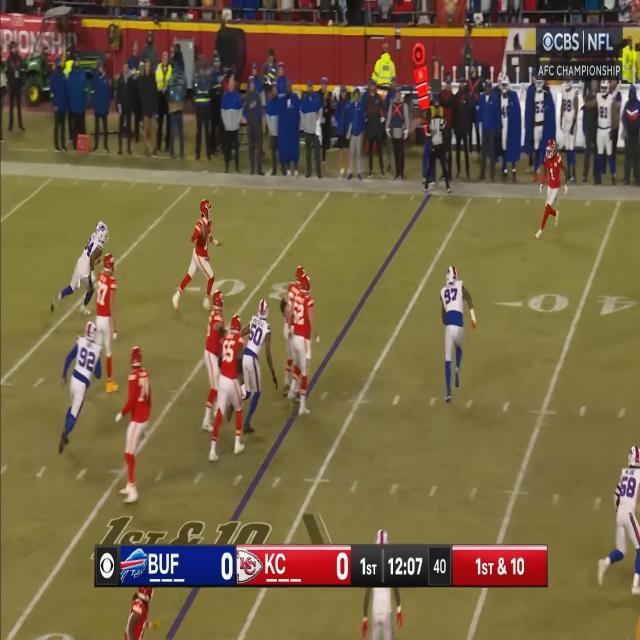Ball: (199, 222, 208, 242)
